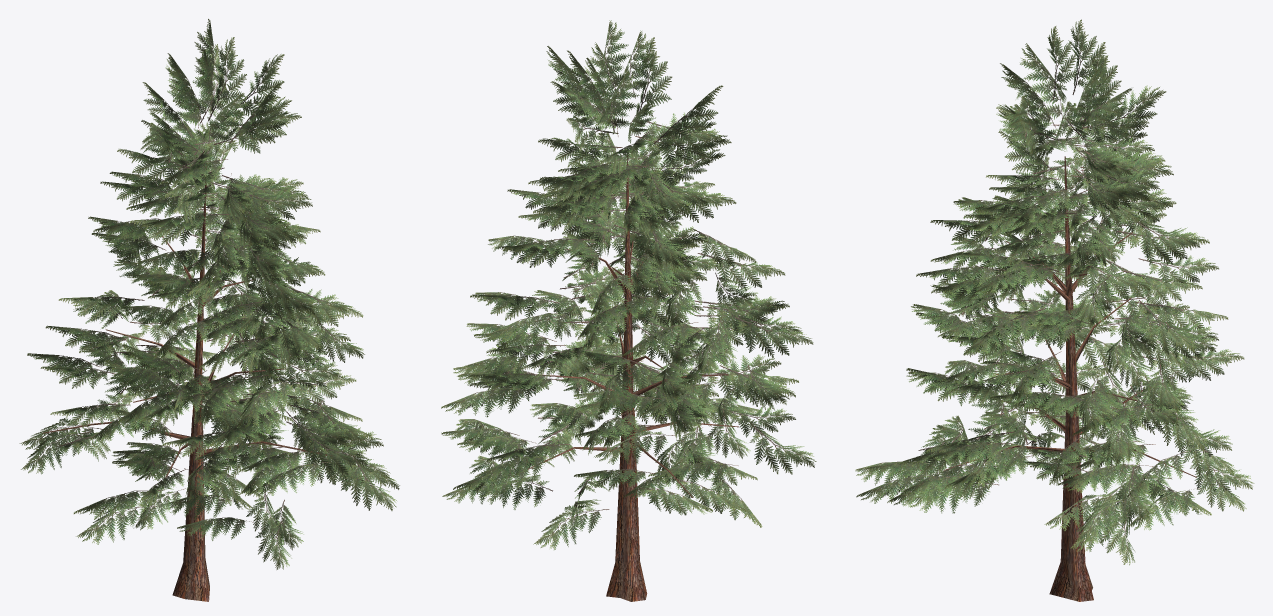
The model's file is Calocedrus_Decurrens_Autumn_Young.glb.
The picture shows the model from 3 angles, left to right: view 1: azimuth 30°, elevation 25°; view 2: azimuth 150°, elevation 25°; view 3: azimuth 270°, elevation 25°; orthographic projection. The views are drawn at different scales.
Parts seen in each view (by area): view 1: Calocedrus_Decurrens_Autumn_Young__LOD3; view 2: Calocedrus_Decurrens_Autumn_Young__LOD3; view 3: Calocedrus_Decurrens_Autumn_Young__LOD3.
Boxes of the visible parts, x1,y1,x2,y2 form: Calocedrus_Decurrens_Autumn_Young__LOD3: [19, 19, 399, 601]; Calocedrus_Decurrens_Autumn_Young__LOD3: [441, 20, 816, 601]; Calocedrus_Decurrens_Autumn_Young__LOD3: [855, 19, 1254, 601].
Bounding box in the file's own units: 6.16 × 10.16 × 6.42.
2 materials, 2 textured.
